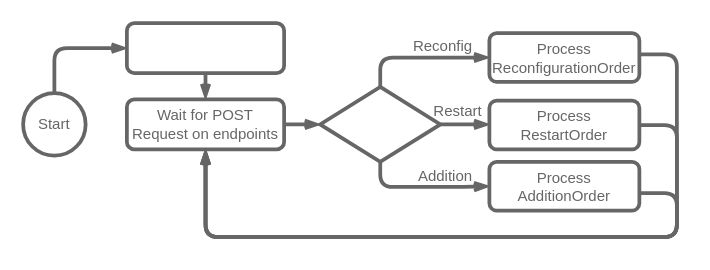
Some shapes in this 710 by 270 pixel diagram are drawn without their labels. Each missing label, with the box of its shape:
Build connection to docker API: (124, 21, 285, 74)
Order to process: (318, 84, 442, 163)
